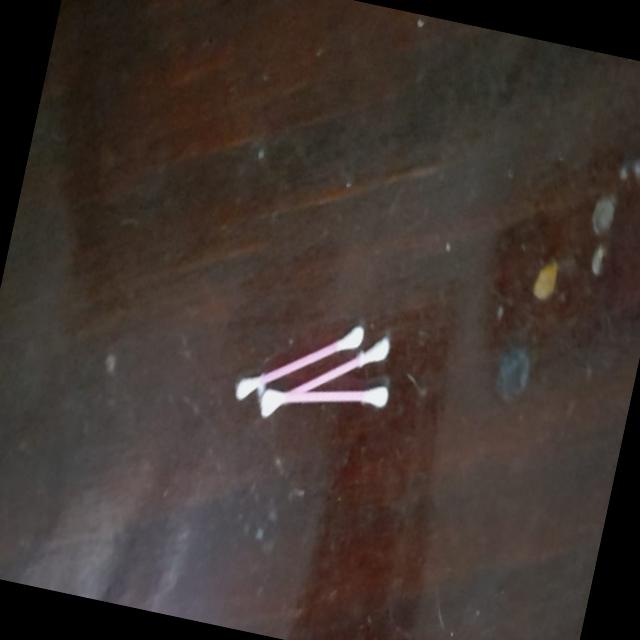Earbud - Non Recyclable: (228, 298, 404, 448)
